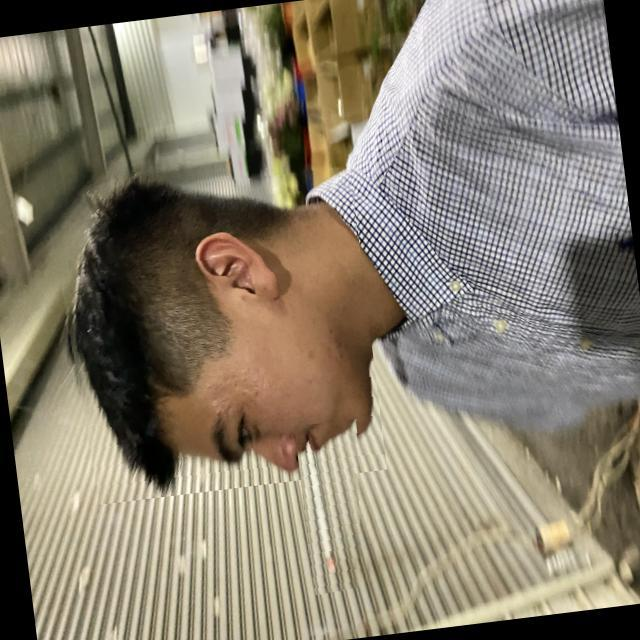cigarette: (294, 418, 378, 596)
